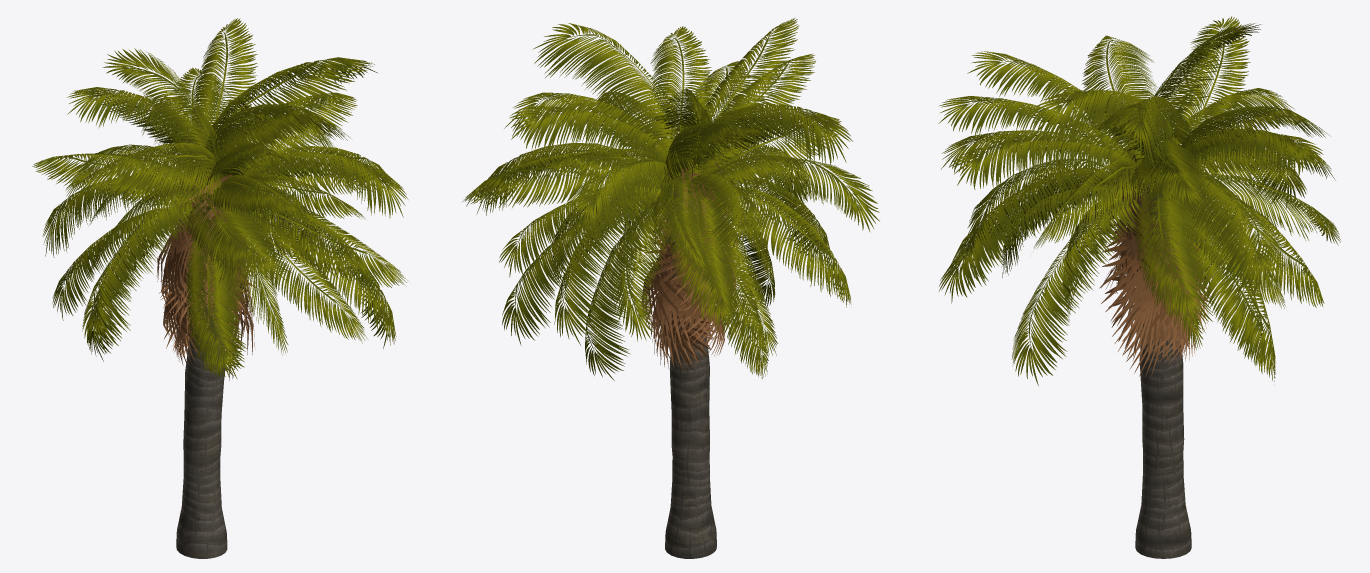
Rendered from SM_Palm_Tree_01.fbx.
3 renders of one model, left to right at view 1: azimuth 30°, elevation 25°; view 2: azimuth 150°, elevation 25°; view 3: azimuth 270°, elevation 25°, orthographic. The views are drawn at different scales.
Parts seen in each view (by area): view 1: SM_Palm_Tree_01_LOD0; view 2: SM_Palm_Tree_01_LOD0; view 3: SM_Palm_Tree_01_LOD0.
Part boxes in pixels (<box>): SM_Palm_Tree_01_LOD0: <box>32,18,408,558</box>; SM_Palm_Tree_01_LOD0: <box>462,18,879,558</box>; SM_Palm_Tree_01_LOD0: <box>938,16,1340,558</box>.
Bounding box in the file's own units: 518 × 507 × 657.
